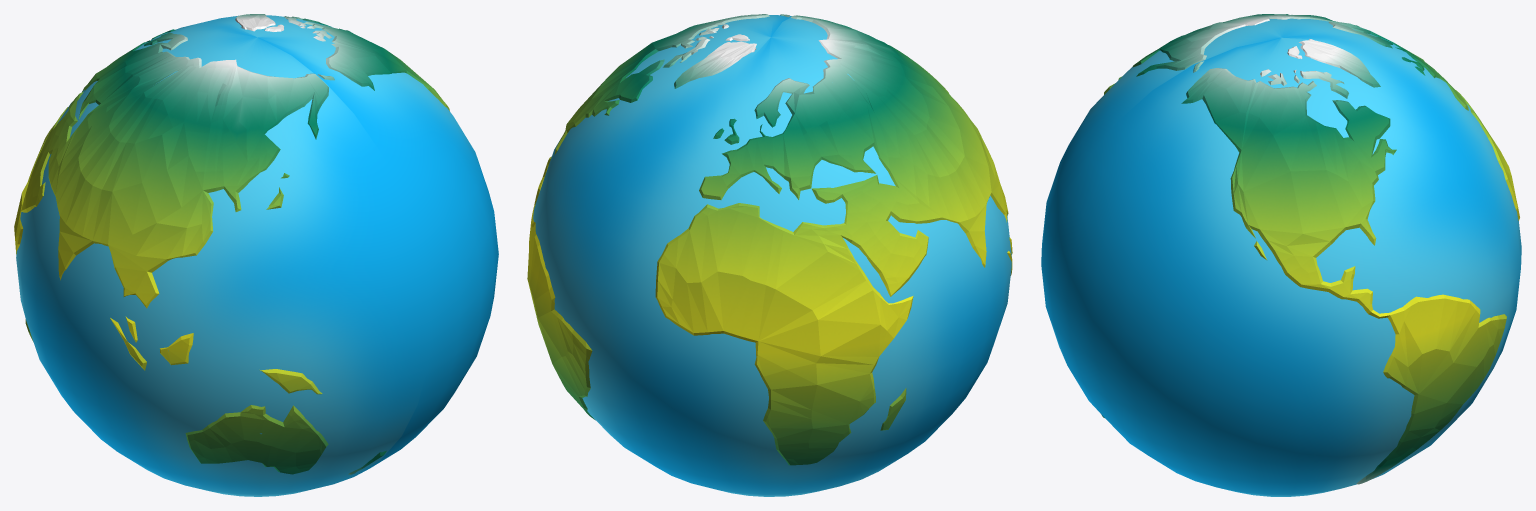
Rendered from New_Earth.fbx.
The picture shows the model from 3 angles, left to right: view 1: azimuth 30°, elevation 25°; view 2: azimuth 150°, elevation 25°; view 3: azimuth 270°, elevation 25°; orthographic projection.
Visible parts, largest first — view 1: Sphere, Sphere_Deformers Active; view 2: Sphere, Sphere_Deformers Active; view 3: Sphere, Sphere_Deformers Active.
Part boxes in pixels (x1,y1,x2,y2): Sphere: (16, 15, 498, 496); Sphere_Deformers Active: (14, 14, 449, 474); Sphere: (533, 15, 1011, 496); Sphere_Deformers Active: (527, 14, 1012, 465); Sphere: (1041, 18, 1521, 496); Sphere_Deformers Active: (1101, 14, 1519, 484).
Bounding box in the file's own units: 977 × 981 × 976.
